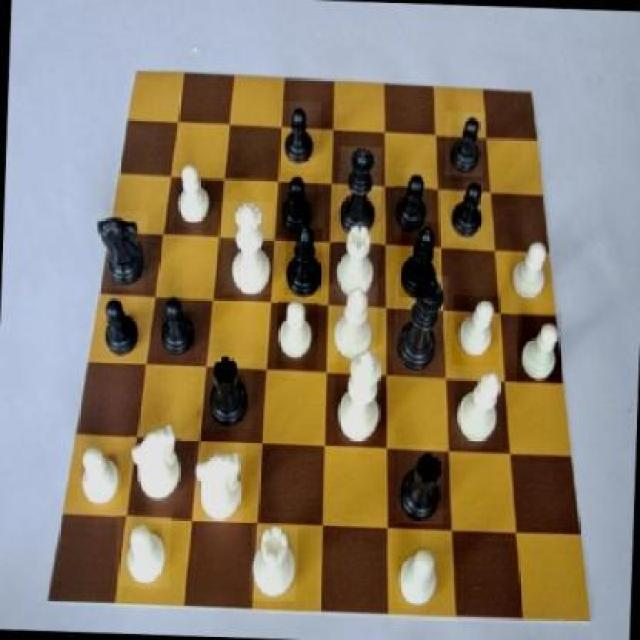bishop: (398, 220, 438, 298), (285, 228, 322, 297)
black-bishop: (394, 274, 449, 378)
black-king: (95, 211, 148, 291)
black-knight: (99, 294, 142, 364), (394, 169, 434, 240), (157, 287, 197, 358), (278, 100, 321, 166), (444, 182, 488, 244), (444, 112, 484, 177), (278, 172, 318, 237)
black-pawn: (337, 146, 383, 239)
black-queen: (198, 352, 254, 430), (397, 444, 446, 524)
black-rook: (450, 372, 504, 450), (328, 283, 378, 364)
white-bishop: (334, 352, 389, 446)
white-king: (128, 423, 182, 505), (192, 441, 245, 524)
white-knight: (116, 511, 172, 588), (451, 295, 500, 368), (516, 310, 562, 384), (76, 443, 122, 512), (396, 542, 442, 609), (277, 298, 320, 369), (509, 240, 554, 306), (174, 162, 213, 230)
white-pawn: (221, 200, 274, 295)
white-queen: (332, 222, 380, 306), (251, 524, 298, 600)
